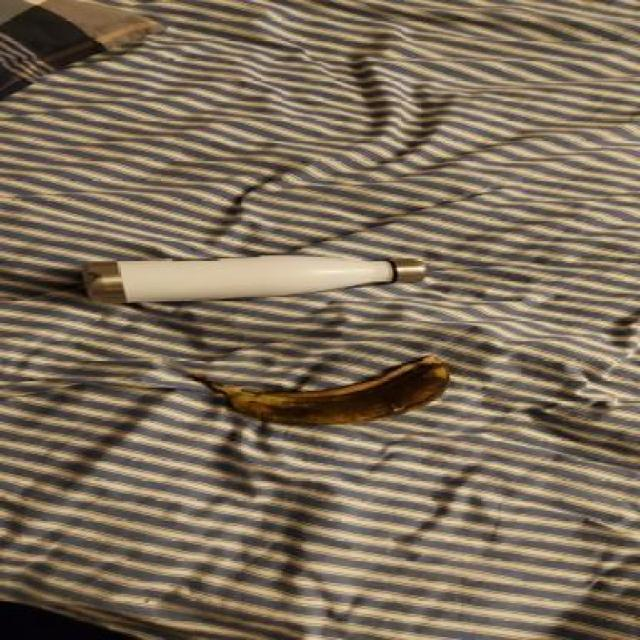banana-peel: (191, 352, 452, 427)
